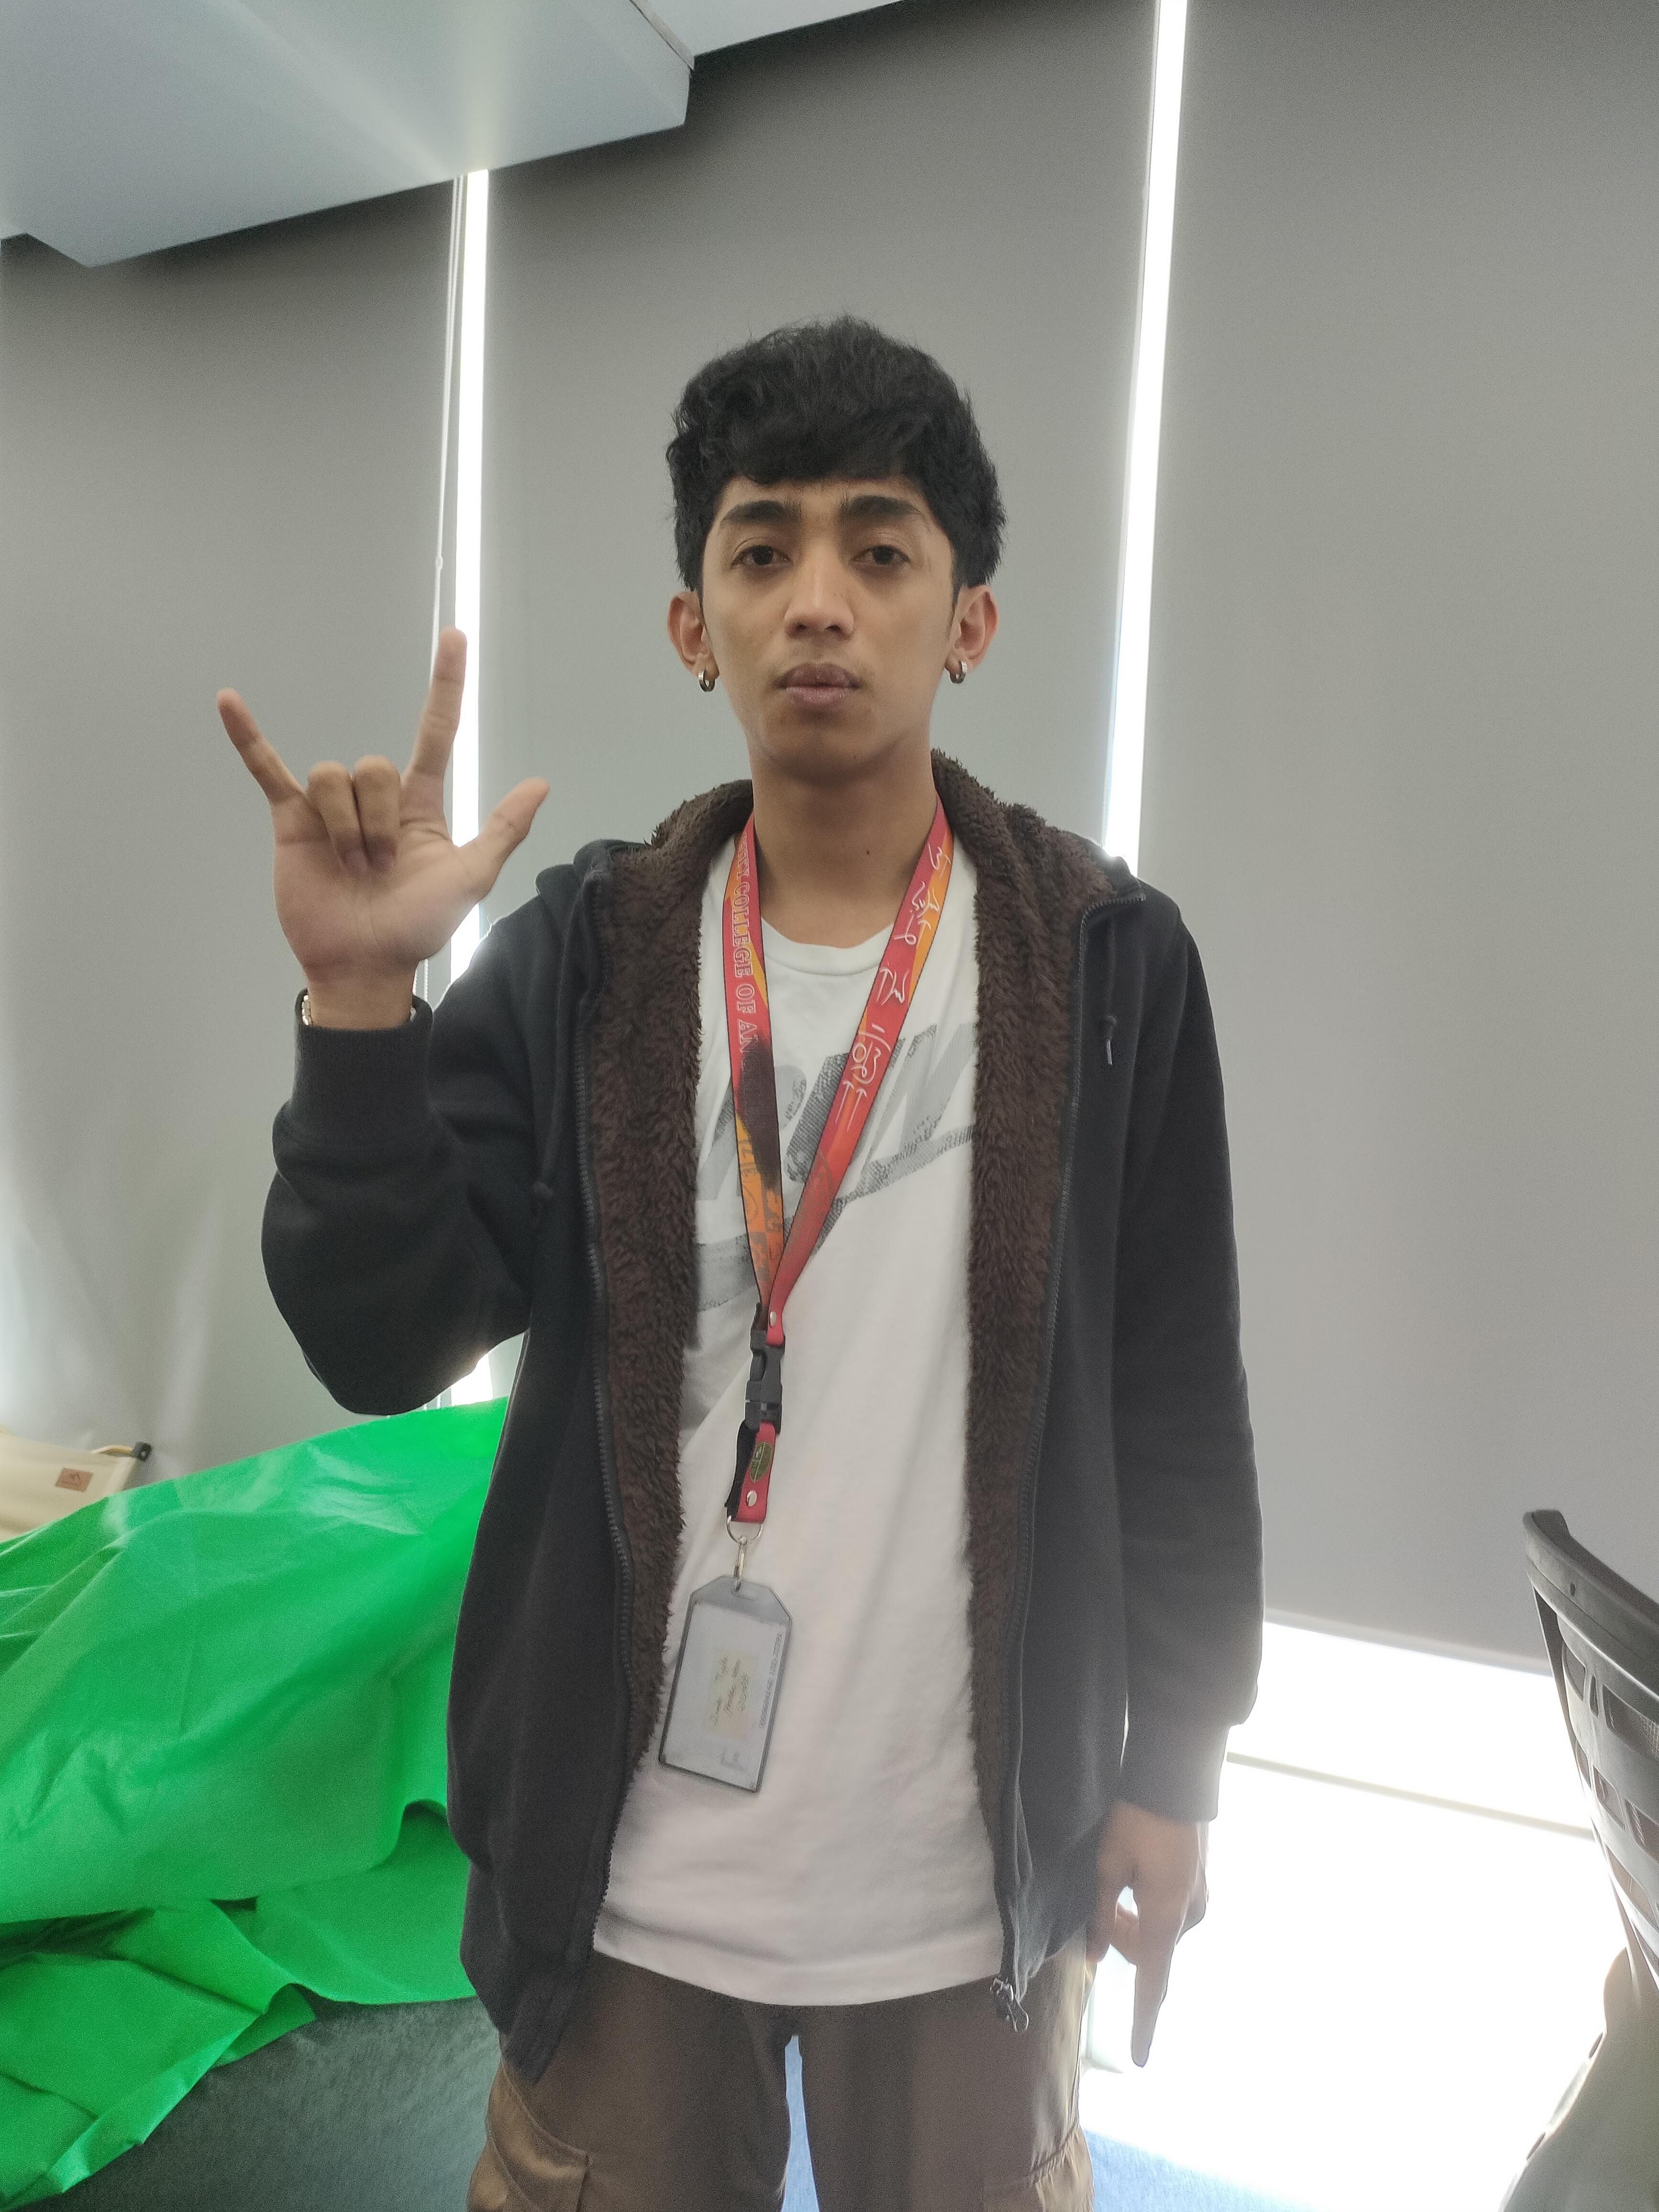Yes: (167, 624, 554, 942)
